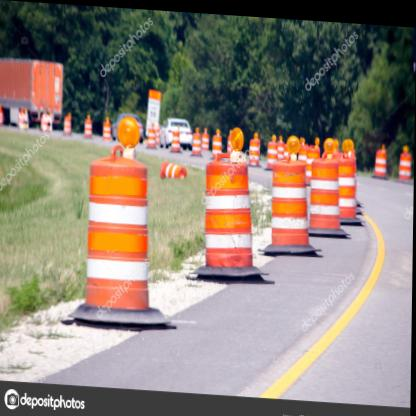obstacle: (77, 138, 159, 315), (202, 159, 256, 270), (269, 153, 315, 247), (308, 150, 346, 229)
